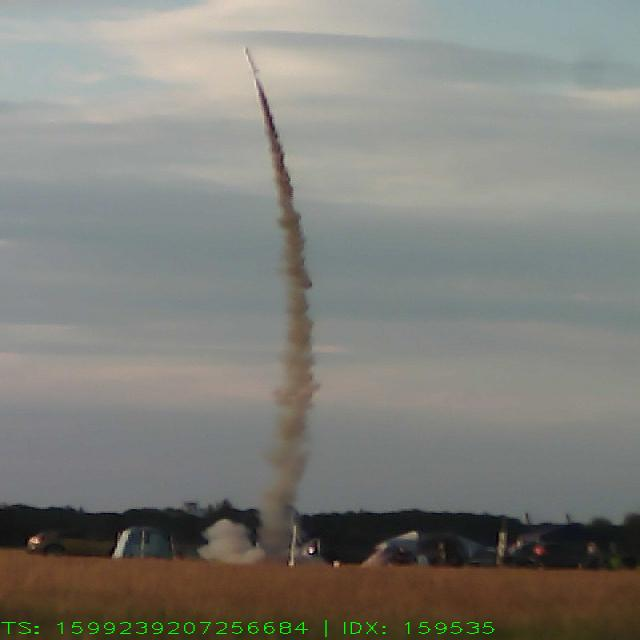Rocket: (243, 46, 262, 76)
